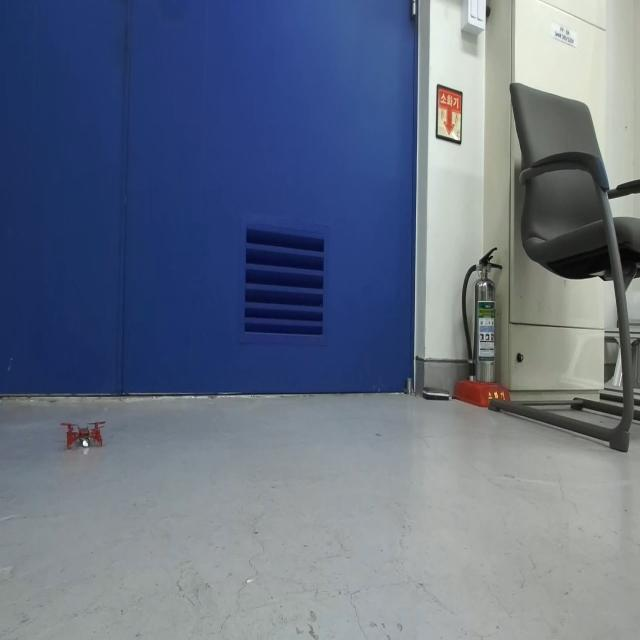crazyflie: (56, 415, 107, 455)
